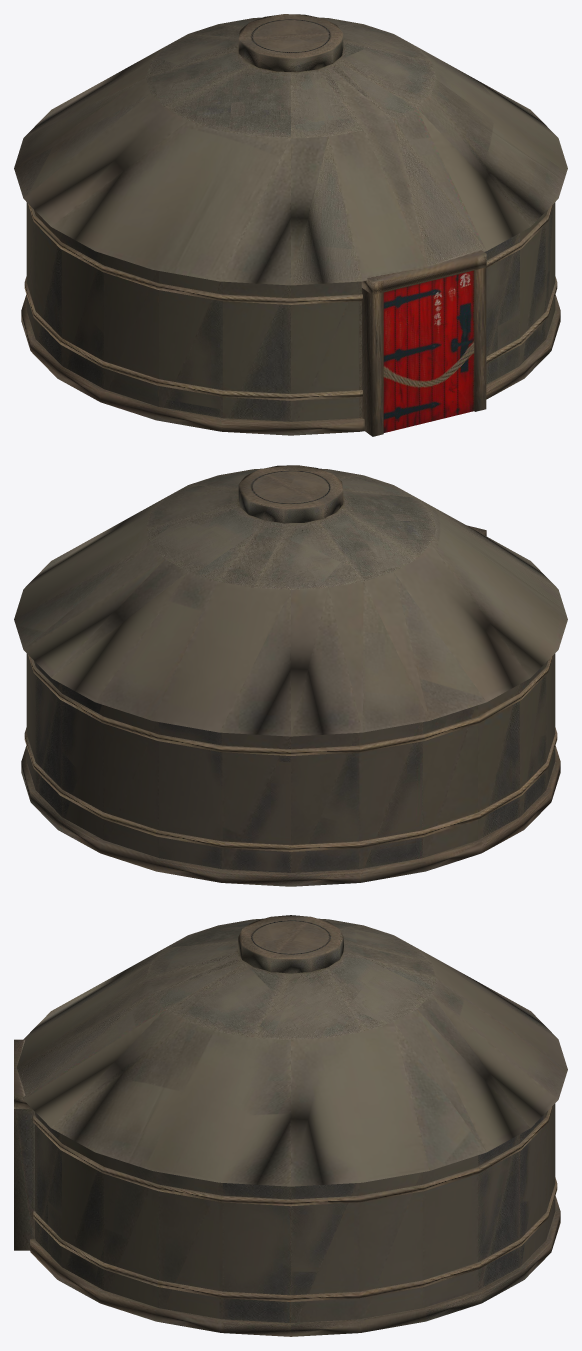
The model's file is yurt_small.glb.
The picture shows the model from 3 angles, top to bottom: view 1: azimuth 30°, elevation 25°; view 2: azimuth 150°, elevation 25°; view 3: azimuth 270°, elevation 25°; orthographic projection.
Visible parts, largest first — view 1: yurt_small; view 2: yurt_small; view 3: yurt_small.
Part boxes in pixels (x1,y1,x2,y2): yurt_small: (14, 14, 567, 436); yurt_small: (14, 465, 567, 886); yurt_small: (14, 915, 567, 1336).
Bounding box in the file's own units: 5.24 × 2.98 × 5.24.
Materials: 1 (1 with a texture image).
